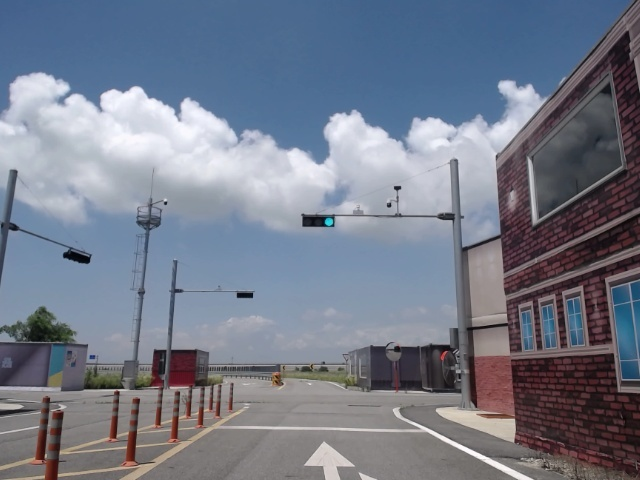green_3: (303, 216, 336, 227)
